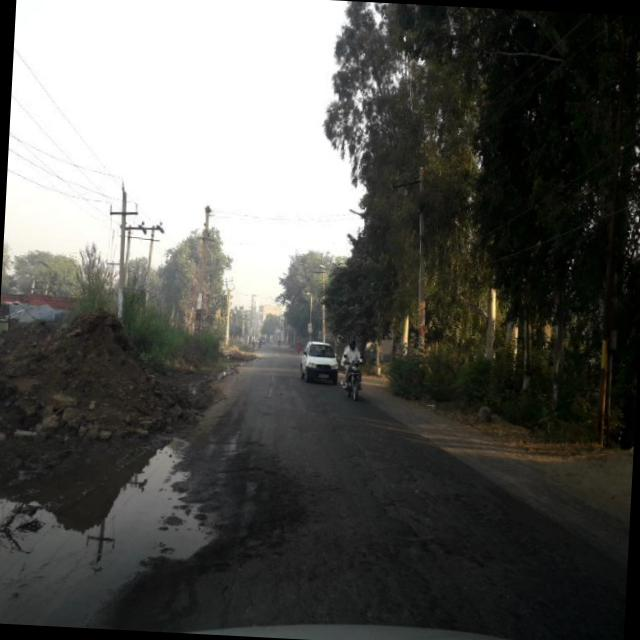pothole: (0, 418, 310, 635), (304, 436, 590, 632)
